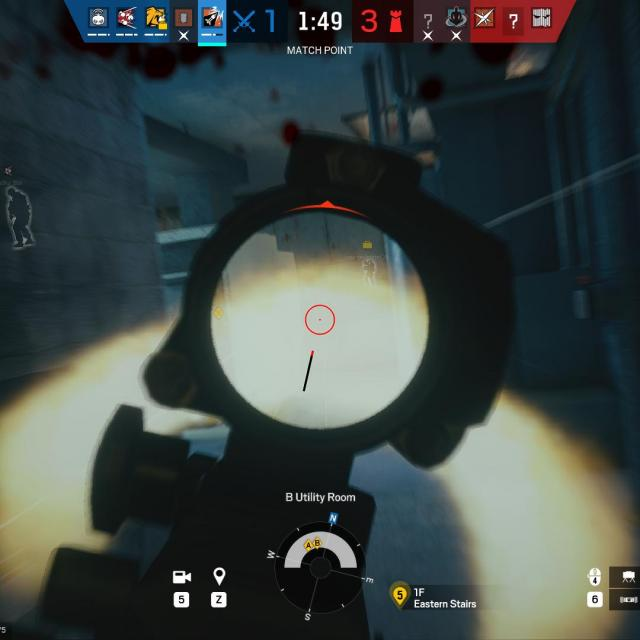Friend_label: (344, 239, 390, 261), (0, 164, 24, 186)
